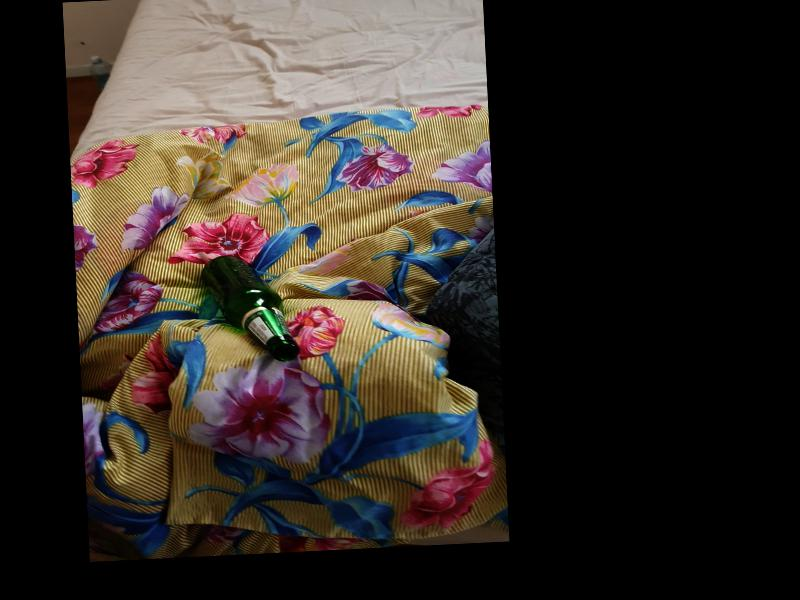Beer: (200, 253, 297, 366)
